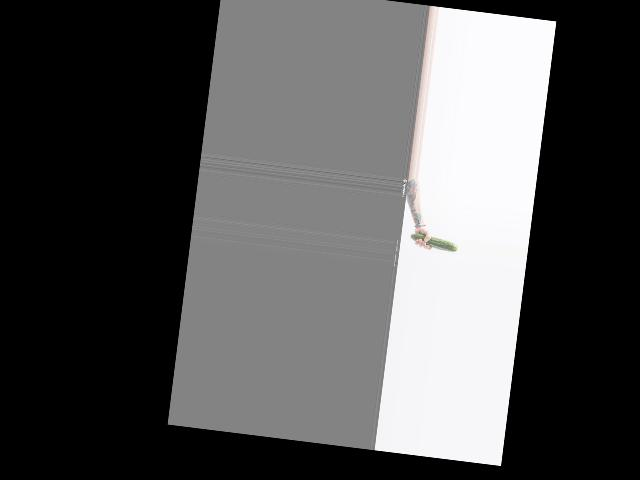cucumber: (409, 233, 459, 253)
